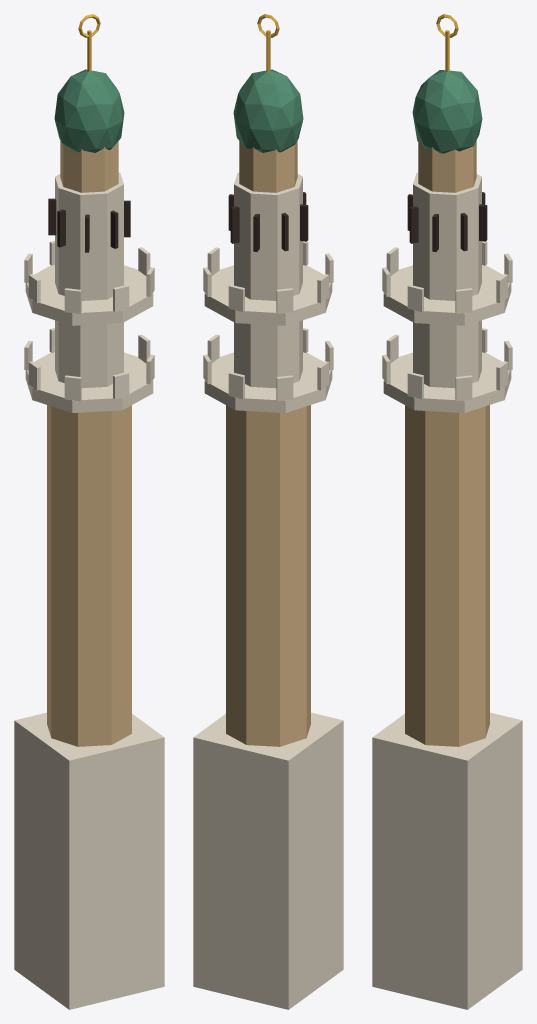
Rendered from minaret.glb.
3 renders of one model, left to right at view 1: azimuth 30°, elevation 25°; view 2: azimuth 150°, elevation 25°; view 3: azimuth 330°, elevation 25°, orthographic.
Parts seen in each view (by area): view 1: minaret; view 2: minaret; view 3: minaret.
Boxes of the visible parts, left/top/right/bottom form: minaret: left=14, top=14, right=164, bottom=1009; minaret: left=193, top=14, right=343, bottom=1009; minaret: left=372, top=14, right=522, bottom=1009.
Bounding box in the file's own units: 4.8 × 38.65 × 4.8.
